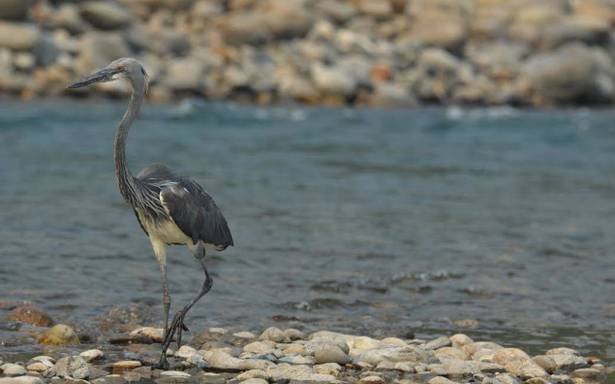heron: (65, 55, 239, 373)
